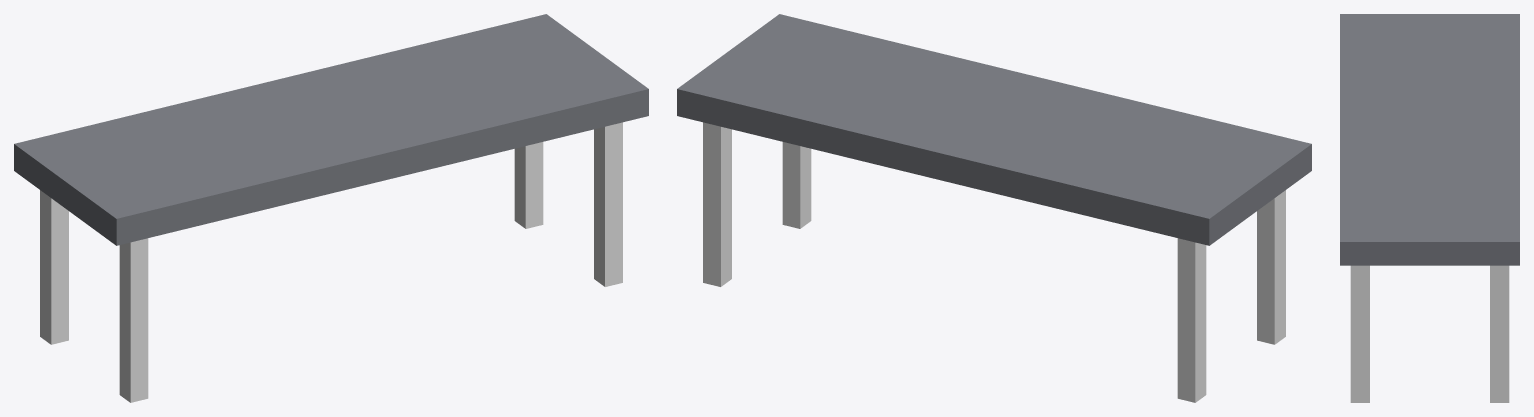
Rendered from Table1V1.gltf.
3 views of the same model, side by side, from view 1: azimuth 30°, elevation 25°; view 2: azimuth 150°, elevation 25°; view 3: azimuth 270°, elevation 25° (orthographic). The views are drawn at different scales.
Parts seen in each view (by area): view 1: Cube; view 2: Cube; view 3: Cube.
Part boxes in pixels (<box>): Cube: <box>14,14,648,402</box>; Cube: <box>677,14,1311,402</box>; Cube: <box>1340,14,1519,402</box>.
Bounding box in the file's own units: 1.5 × 0.5206 × 0.5.
Materials: 1 (1 with a texture image).
